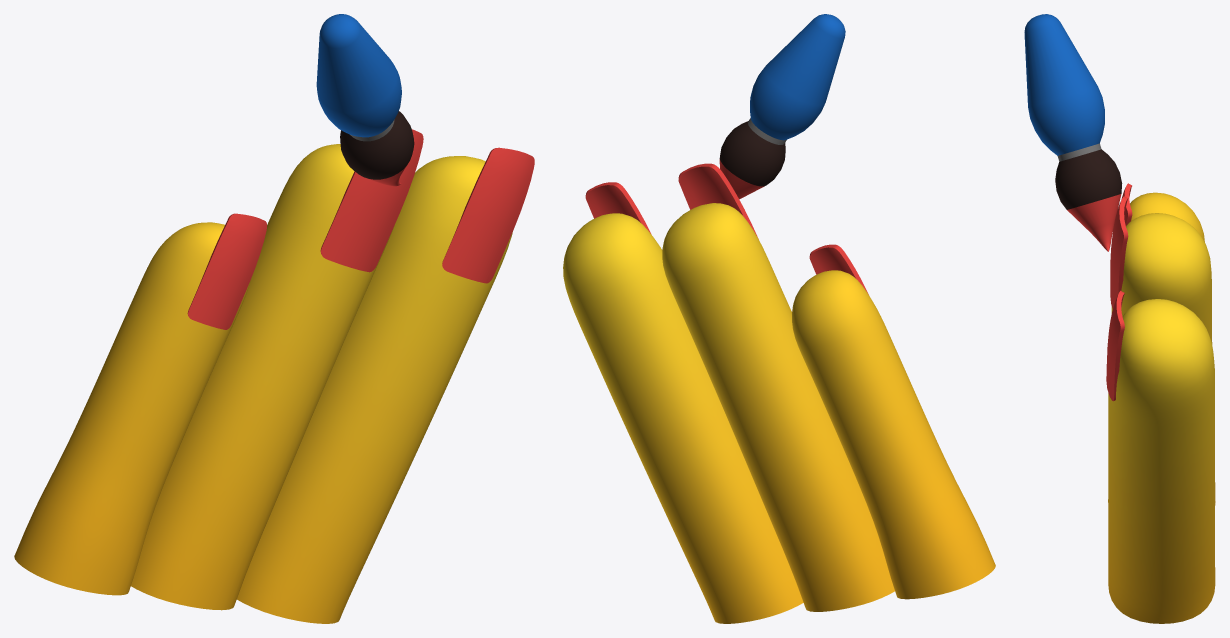
The model's file is nail_polish.glb.
3 renders of one model, left to right at view 1: azimuth 30°, elevation 25°; view 2: azimuth 150°, elevation 25°; view 3: azimuth 270°, elevation 25°, orthographic. The views are drawn at different scales.
Parts seen in each view (by area): view 1: Cube.101, Circle.270; view 2: Cube.101, Circle.270; view 3: Cube.101, Circle.270.
Part boxes in pixels (x1,y1,x2,y2): Cube.101: (14,129,534,623); Circle.270: (316,14,414,186); Cube.101: (563,163,995,623); Circle.270: (719,14,845,199); Cube.101: (1106,183,1215,623); Circle.270: (1024,14,1122,251).
Size of the model in its own units: 1.42 by 1.82 by 0.5376.
Materials: 1 (1 with a texture image).
